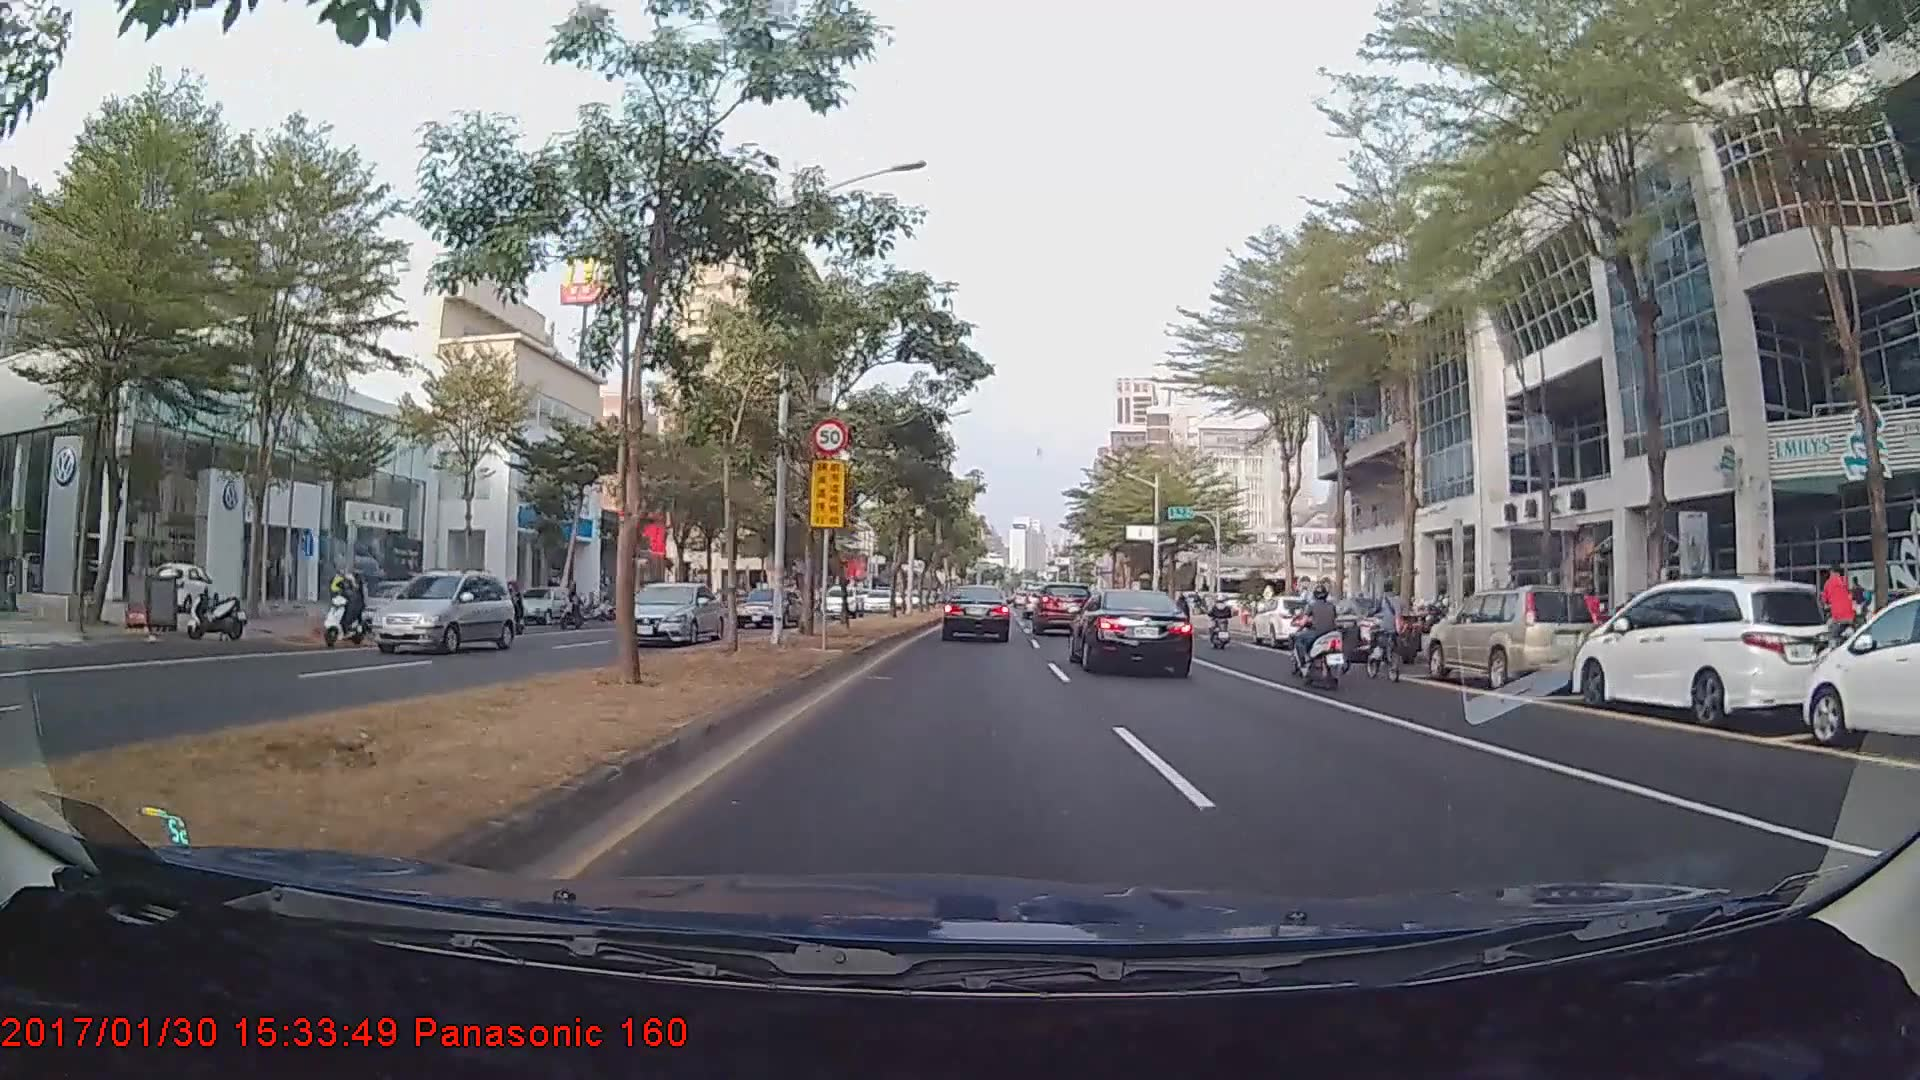rider: (1281, 582, 1357, 693), (1364, 579, 1413, 683), (1289, 590, 1341, 677), (321, 565, 370, 651), (1202, 594, 1237, 650)
vehicle: (1570, 574, 1832, 732), (1714, 588, 1920, 765), (1425, 589, 1598, 690), (368, 564, 520, 655), (1071, 584, 1195, 677), (1303, 597, 1417, 665), (617, 581, 727, 648), (1253, 592, 1331, 648), (940, 584, 1012, 643), (1031, 582, 1085, 637), (730, 585, 800, 628), (509, 586, 575, 623), (819, 581, 863, 618)
